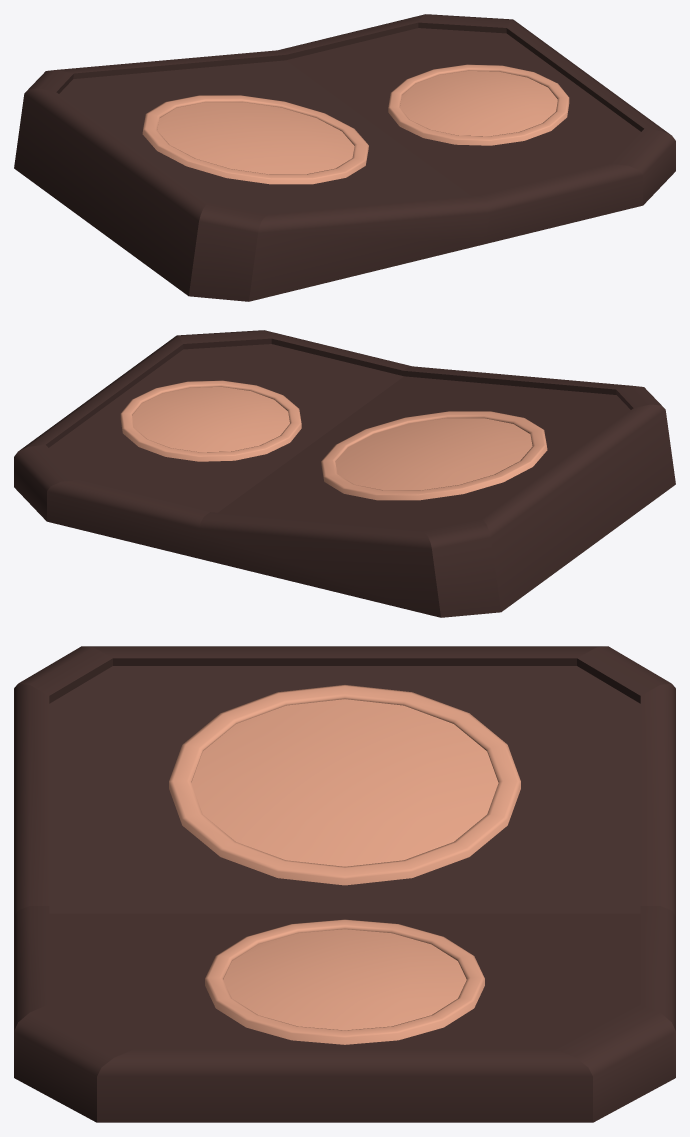
The model's file is mesh_SpeakerL.fbx.
The picture shows the model from 3 angles, top to bottom: view 1: azimuth 30°, elevation 25°; view 2: azimuth 150°, elevation 25°; view 3: azimuth 270°, elevation 25°; orthographic projection. The views are drawn at different scales.
Visible parts, largest first — view 1: SpeakerL; view 2: SpeakerL; view 3: SpeakerL.
Part boxes in pixels (x1,y1,x2,y2): SpeakerL: (14,14,675,301); SpeakerL: (14,330,675,617); SpeakerL: (14,646,675,1122).
Bounding box in the file's own units: 268 × 41.59 × 203.
